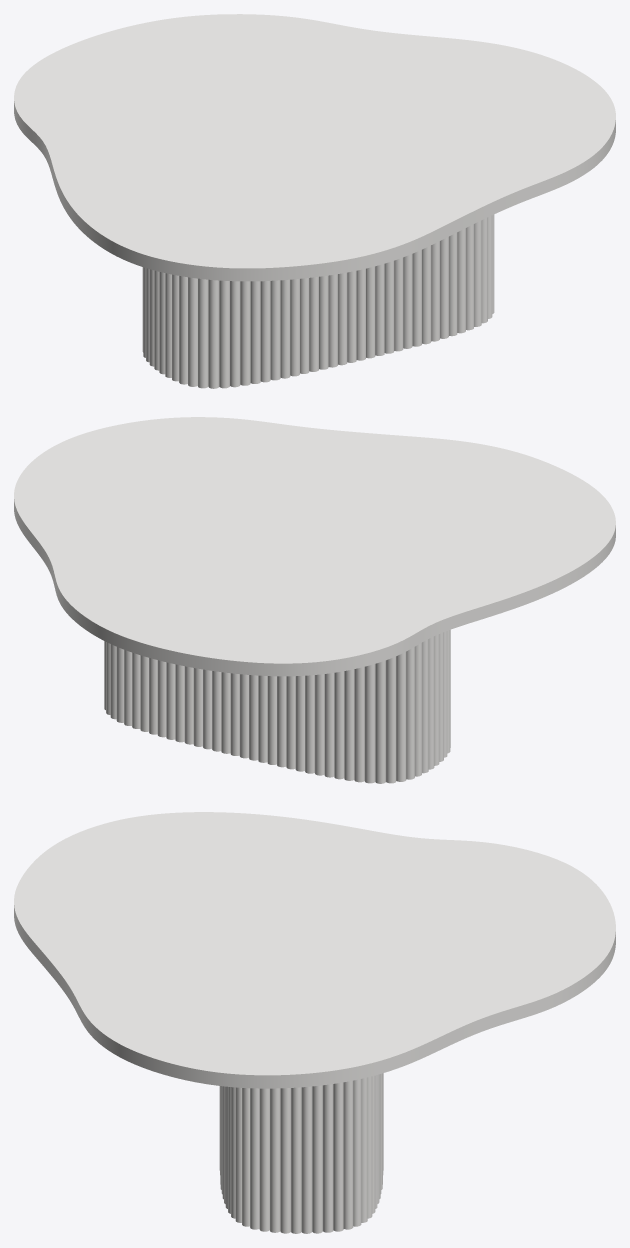
File: purewhite_topone_standard_newtable.glb
The picture shows the model from 3 angles, top to bottom: view 1: azimuth 30°, elevation 25°; view 2: azimuth 150°, elevation 25°; view 3: azimuth 270°, elevation 25°; orthographic projection. The views are drawn at different scales.
Parts seen in each view (by area): view 1: standard_topone, newtable; view 2: standard_topone, newtable; view 3: standard_topone, newtable.
Part boxes in pixels (x1,y1,x2,y2): standard_topone: (14,14,615,281); newtable: (142,214,494,388); standard_topone: (14,417,615,676); newtable: (104,630,450,783); standard_topone: (14,812,615,1088); newtable: (219,1073,383,1233).
Bounding box in the file's own units: 6.83 × 2.5 × 6.6.
2 materials, 2 textured.
